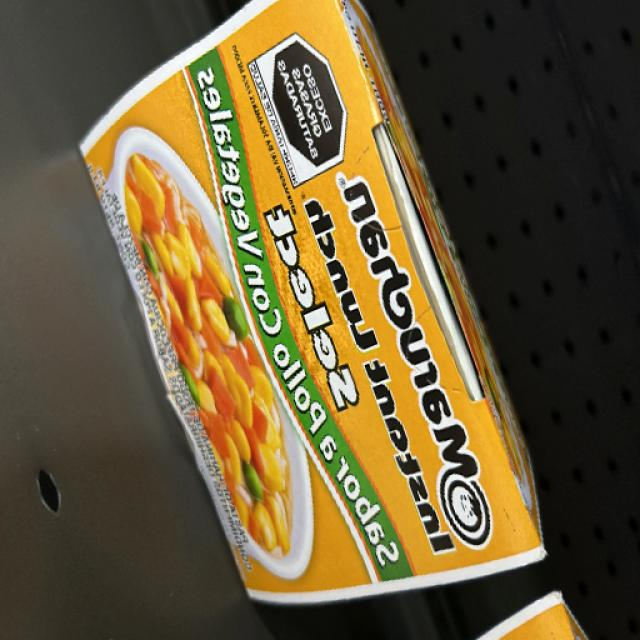maruchanPollo: (123, 62, 523, 578)
